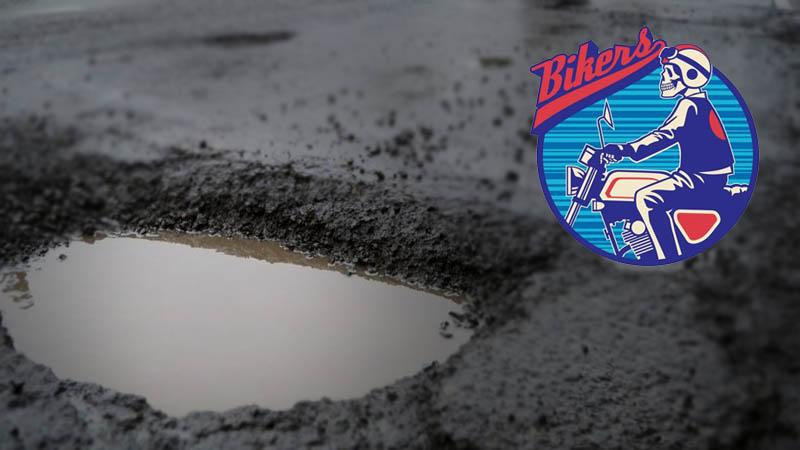Pothole: (0, 162, 572, 423)
